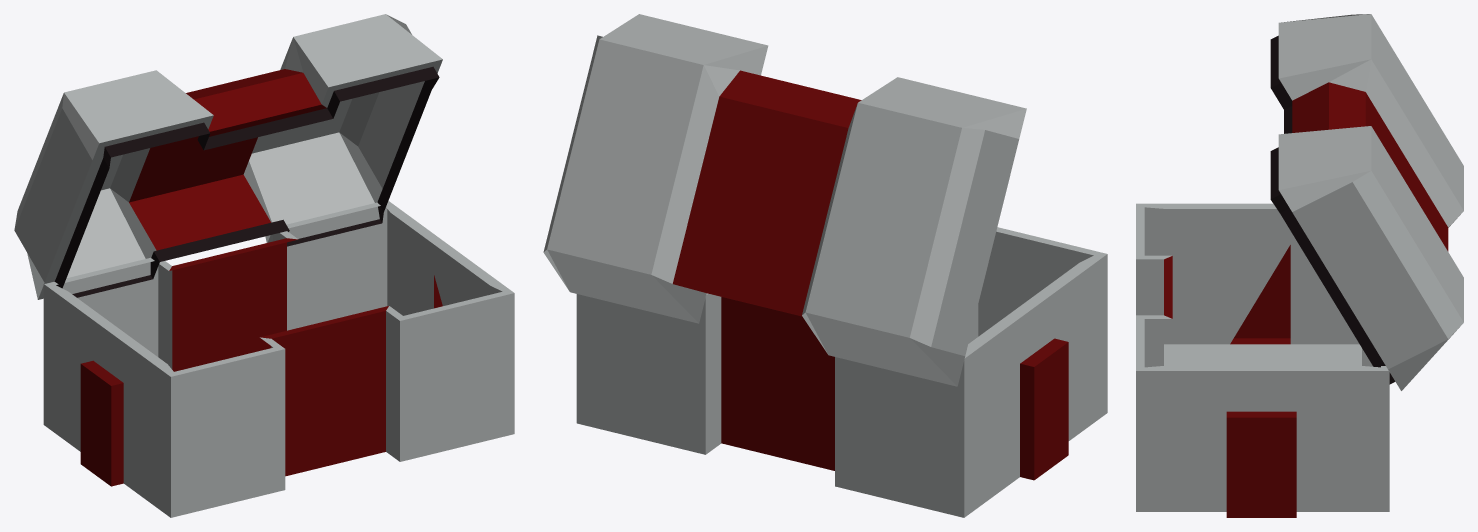
File: Chest_White_Open.fbx
3 views of the same model, side by side, from view 1: azimuth 30°, elevation 25°; view 2: azimuth 150°, elevation 25°; view 3: azimuth 270°, elevation 25° (orthographic). The views are drawn at different scales.
Visible parts, largest first — view 1: Chest.001; view 2: Chest.001; view 3: Chest.001.
Part boxes in pixels (<box>): Chest.001: <box>14,14,514,517</box>; Chest.001: <box>543,14,1107,517</box>; Chest.001: <box>1136,14,1463,517</box>.
Bounding box in the file's own units: 215 × 187 × 166.
1 material, 1 textured.
